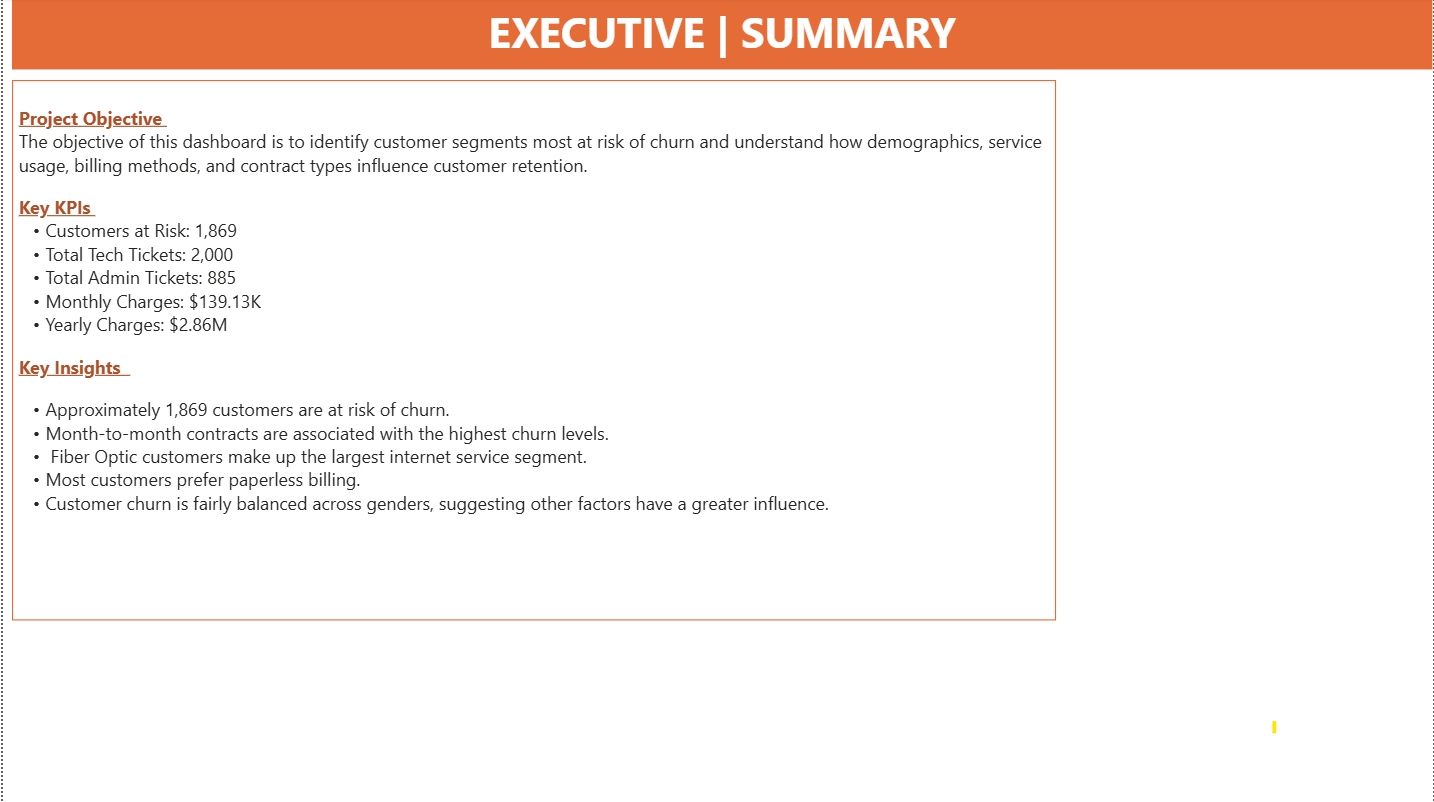

Layout of this report page (visuals, bound fields, positions):
{"tool":"powerbi","page":{"name":"Executive Summary ","canvas":[1280,720],"ordinal":1},"visuals":[{"type":"textbox","box":[8.1,0,1271.6,64.5],"z":0},{"type":"textbox","box":[8.1,73.4,934.9,483.6],"z":1000}]}

Visuals, with their boxes in screenshot pixels (x1, y1, x2, y2), scaled from the page's 1280x720 canvas onto the 1434x802 screenshot:
textbox: [left=9, top=0, right=1433, bottom=72]
textbox: [left=9, top=82, right=1056, bottom=620]
